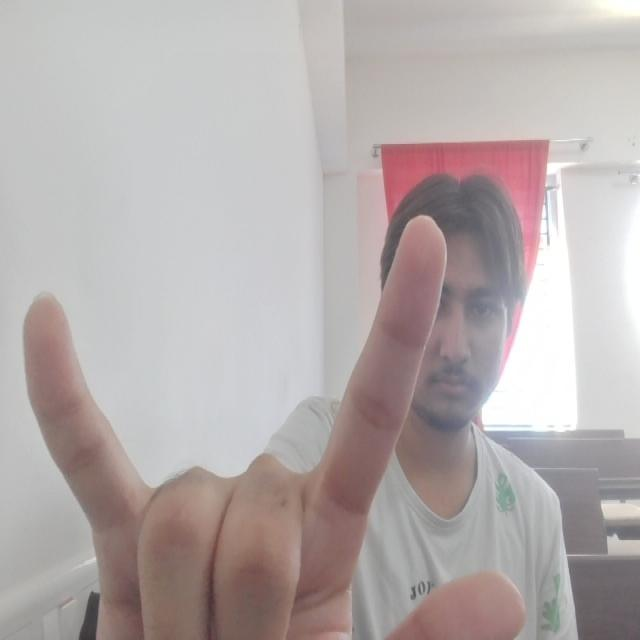iloveyou: (11, 213, 528, 640)
